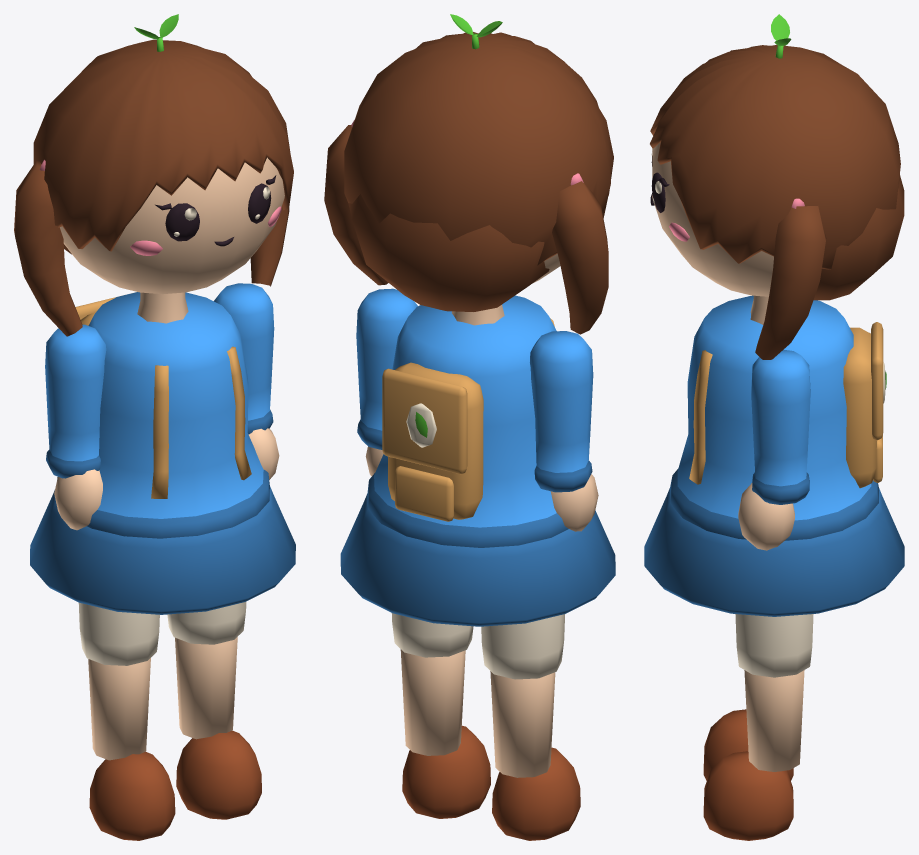
The model's file is hero-girl.glb.
3 renders of one model, left to right at view 1: azimuth 30°, elevation 25°; view 2: azimuth 150°, elevation 25°; view 3: azimuth 270°, elevation 25°, orthographic. The views are drawn at different scales.
Parts seen in each view (by area): view 1: head, body, leg-left, leg-right, arm-left, arm-right; view 2: head, body, leg-left, leg-right, arm-left, arm-right; view 3: head, body, leg-right, arm-right, leg-left, head-leaf.
Part boxes in pixels (box(x1,y1,x2,y2)): head: box(14, 39, 293, 336); body: box(30, 292, 295, 614); leg-left: box(78, 602, 175, 840); leg-right: box(167, 602, 261, 819); arm-left: box(45, 324, 106, 530); arm-right: box(214, 283, 279, 479); head: box(324, 32, 613, 334); body: box(340, 295, 615, 626); leg-left: box(481, 614, 580, 840); leg-right: box(391, 613, 490, 818); arm-left: box(530, 331, 598, 531); arm-right: box(356, 288, 417, 476); head: box(650, 45, 904, 359); body: box(644, 295, 904, 616); leg-right: box(703, 614, 813, 840); arm-right: box(738, 349, 810, 550); leg-left: box(703, 709, 793, 780); head-leaf: box(771, 14, 791, 58).
Bounding box in the file's own units: 0.856 × 2.35 × 0.7084.
